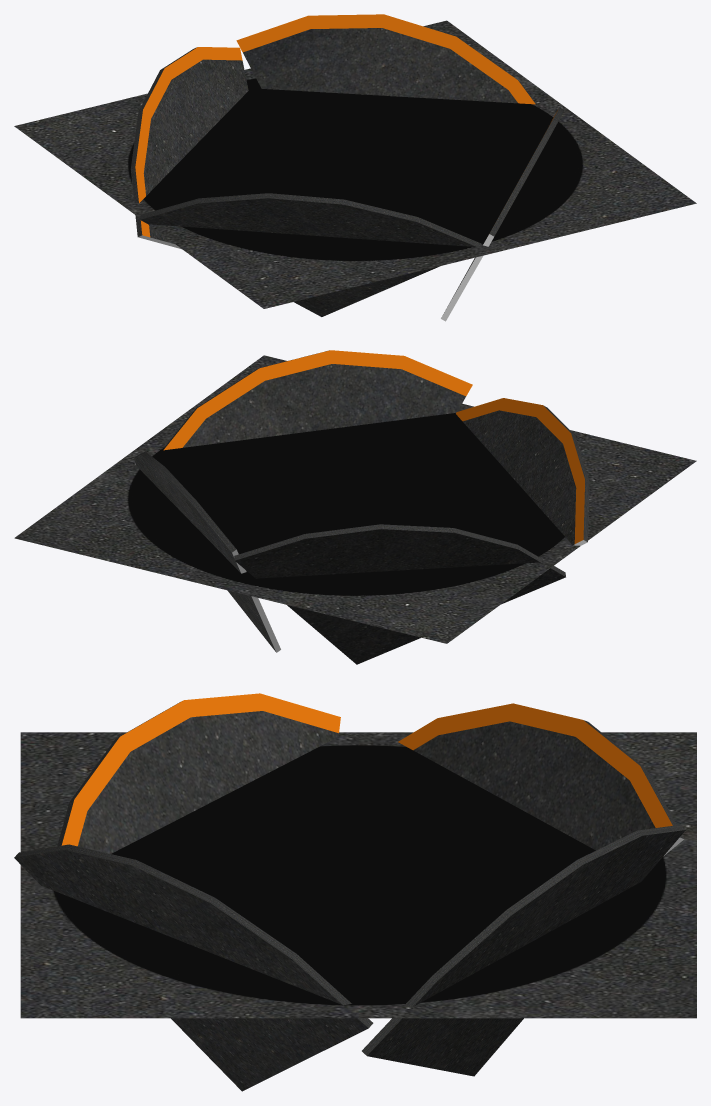
Rendered from wana broken.fbx.
3 views of the same model, one above another, from view 1: azimuth 30°, elevation 25°; view 2: azimuth 150°, elevation 25°; view 3: azimuth 270°, elevation 25° (orthographic). The views are drawn at different scales.
Visible parts, largest first — view 1: hole_plate, borken_cover4, borken_cover3, borken_cover1, borken_cover2; view 2: hole_plate, borken_cover2, borken_cover1, borken_cover3, borken_cover4; view 3: hole_plate, borken_cover3, borken_cover2, borken_cover1, borken_cover4.
Part boxes in pixels (<box>): hole_plate: <box>14,20,696,308</box>; borken_cover4: <box>236,14,535,104</box>; borken_cover3: <box>140,193,481,316</box>; borken_cover1: <box>130,47,248,249</box>; borken_cover2: <box>441,107,564,321</box>; hole_plate: <box>14,355,696,643</box>; borken_cover2: <box>163,350,472,450</box>; borken_cover1: <box>234,524,565,664</box>; borken_cover3: <box>456,398,589,545</box>; borken_cover4: <box>134,451,280,652</box>; hole_plate: <box>20,732,696,1018</box>; borken_cover3: <box>57,693,340,853</box>; borken_cover2: <box>14,844,373,1091</box>; borken_cover1: <box>398,703,684,855</box>; borken_cover4: <box>362,825,685,1076</box>.
Size of the model in its own units: 102 by 44.47 by 101.
4 materials, 2 textured.
